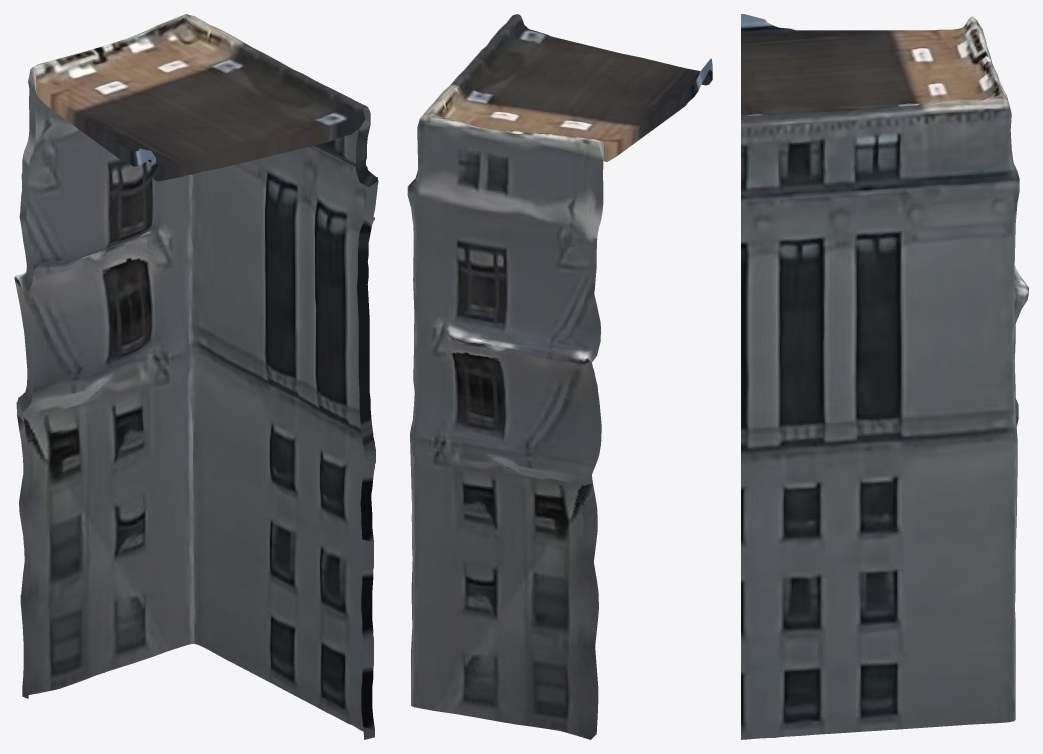
The model's file is z20-167767-405234-h1-yup-uvflip-v3-world.glb.
3 views of the same model, side by side, from view 1: azimuth 30°, elevation 25°; view 2: azimuth 150°, elevation 25°; view 3: azimuth 270°, elevation 25° (orthographic). The views are drawn at different scales.
Size of the model in its own units: 10.08 by 27.12 by 11.4.
1 material, 1 textured.
